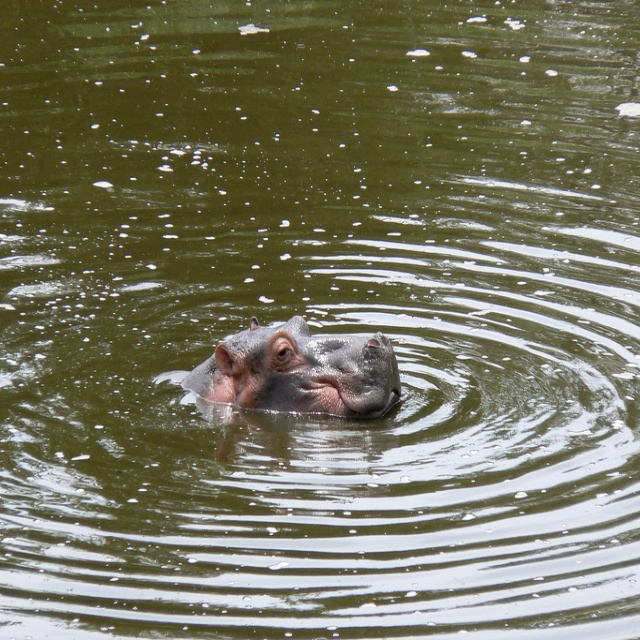Hippopotamus: (180, 313, 402, 418)
